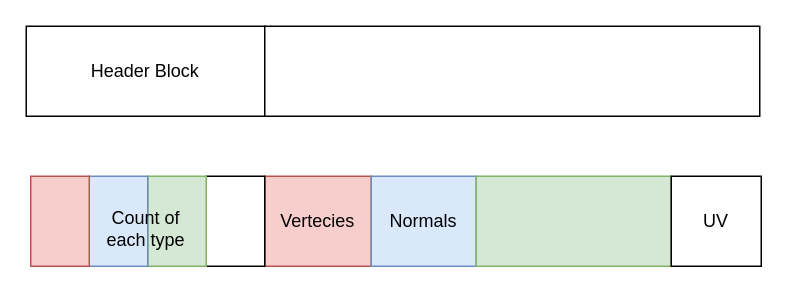
Image size: 788x293. Some labels were removed from this diagram. The centre of each missing label's shape, as x and y in pixels:
Binary Data: point (511, 70)
Indices: point (573, 220)
